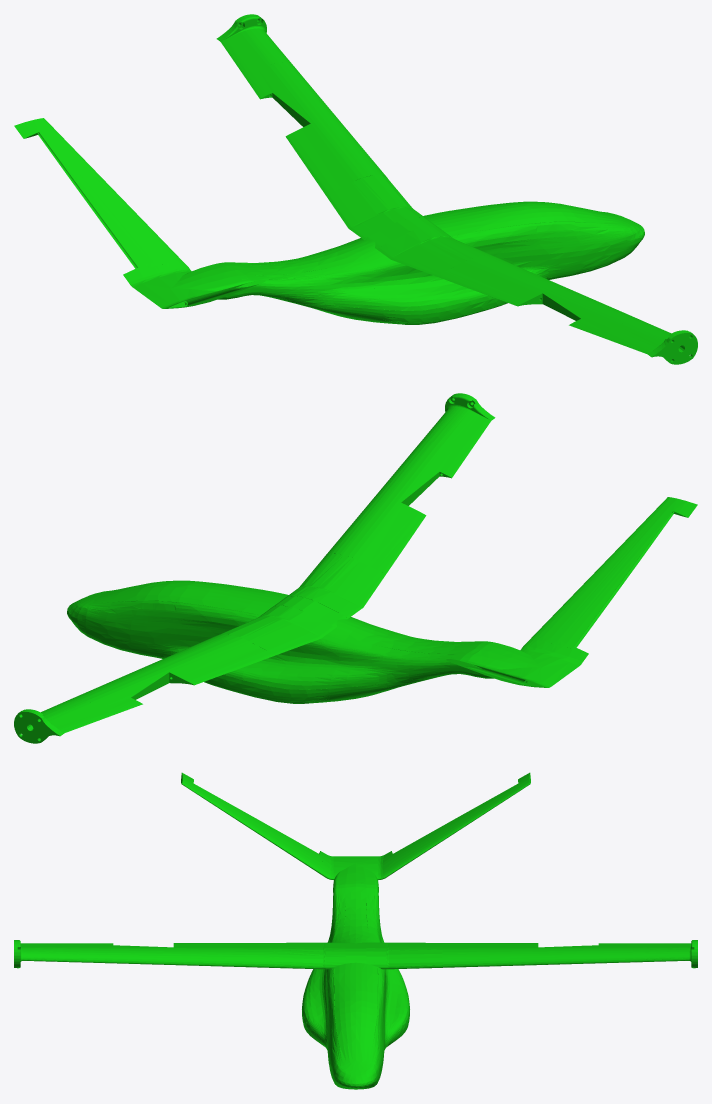
The model's file is testeblendertex.dae.
3 renders of one model, top to bottom at view 1: azimuth 30°, elevation 25°; view 2: azimuth 150°, elevation 25°; view 3: azimuth 270°, elevation 25°, orthographic. The views are drawn at different scales.
Parts seen in each view (by area): view 1: Main_Body; view 2: Main_Body; view 3: Main_Body.
Part boxes in pixels (box(x1,y1,x2,y2)): Main_Body: box(14, 14, 697, 364); Main_Body: box(14, 393, 697, 743); Main_Body: box(14, 772, 697, 1089).
Bounding box in the file's own units: 0.8056 × 1.17 × 0.2545.
